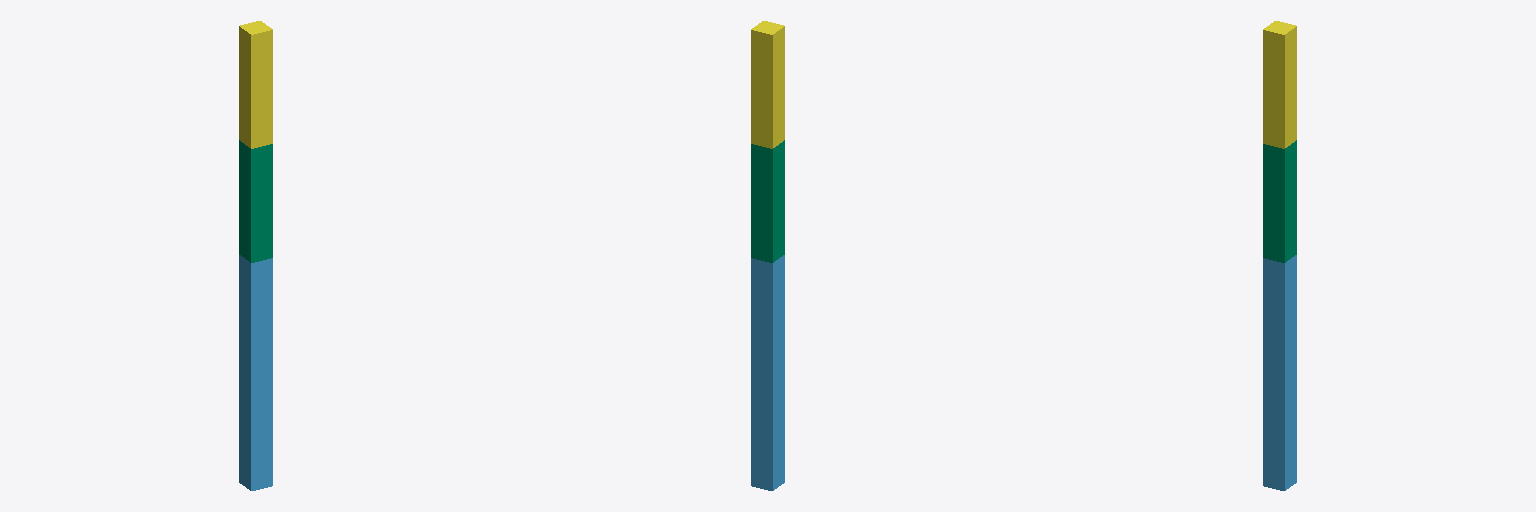
The robot description file, URDF, robot "threeseg":
<?xml version="1.0"?>
<robot name="threeseg">
  <link name="base_link" />
  <link name="link_1">
    <visual>
      <origin xyz="0 0 0.5" rpy="0 0 0"/>
      <geometry>
        <box size="0.1 0.1 1"/>
      </geometry>
    </visual>
  </link>
  <link name="link_2">
    <visual>
      <origin xyz="0 0 0.25" rpy="0 0 0"/>
      <geometry>
        <box size="0.1 0.1 0.5"/>
      </geometry>
    </visual>
  </link>
  <link name="link_3">
    <visual>
      <origin xyz="0 0 0.25" rpy="0 0 0"/>
      <geometry>
        <box size="0.1 0.1 0.5"/>
      </geometry>
    </visual>
  </link>
  <link name="tool0"></link>

  <joint name="joint_1" type="revolute">
    <parent link="base_link" />
    <child link="link_1" />
    <limit effort="30" velocity="1.0" lower="-1.570795" upper="1.570795" />
    <origin xyz="0 0 0" rpy="0 0 0" />
    <axis xyz="0 0 1" />
  </joint>
  <joint name="joint_2" type="revolute">
    <parent link="link_1" />
    <child link="link_2" />
    <limit effort="30" velocity="1.0" lower="-1.570795" upper="1.570795" />
    <origin xyz="0 0 1" rpy="0 0 0" />
    <axis xyz="1 0 0" />
  </joint>
  <joint name="joint_3" type="revolute">
    <parent link="link_2" />
    <child link="link_3" />
    <limit effort="30" velocity="1.0" lower="-1.570795" upper="1.570795" />
    <origin xyz="0 0 0.5" rpy="0 0 0" />
    <axis xyz="1 0 0" />
  </joint>
  <joint name="joint_4-tool0" type="revolute">
    <parent link="link_3" />
    <child link="tool0" />
    <limit effort="30" velocity="1.0" lower="-6.28318" upper="6.28318" />
    <origin xyz="0 0 0.5" rpy="0 0 0" />
    <axis xyz="0 0 1" />
  </joint>
</robot>

--- Render facts (derived) ---
The picture shows the robot from 3 angles, left to right: view 1: azimuth 30°, elevation 25°; view 2: azimuth 150°, elevation 25°; view 3: azimuth 330°, elevation 25°; orthographic projection.
Robot: threeseg — 5 links, 4 joints (4 revolute); root link base_link; default pose: all joints at 0.
Links seen in each view (by area): view 1: link_1, link_3, link_2; view 2: link_1, link_3, link_2; view 3: link_1, link_3, link_2.
Link boxes in pixels (x1,y1,x2,y2): link_1: [239, 255, 272, 490]; link_3: [239, 21, 272, 148]; link_2: [239, 140, 272, 262]; link_1: [751, 255, 784, 490]; link_3: [751, 21, 784, 148]; link_2: [751, 140, 784, 262]; link_1: [1263, 255, 1296, 490]; link_3: [1263, 21, 1296, 148]; link_2: [1263, 140, 1296, 262].
Size in the robot's own frame: 0.1 by 0.1 by 2 metres.
Geometry: primitives only (box / cylinder / sphere), no mesh files.